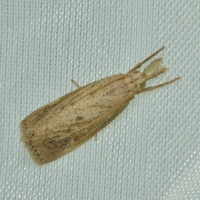insect: (20, 46, 179, 164)
